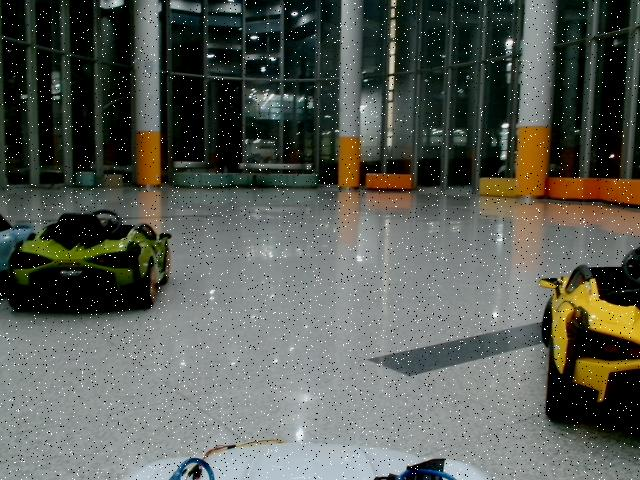car: (541, 247, 640, 424), (8, 210, 172, 308)
